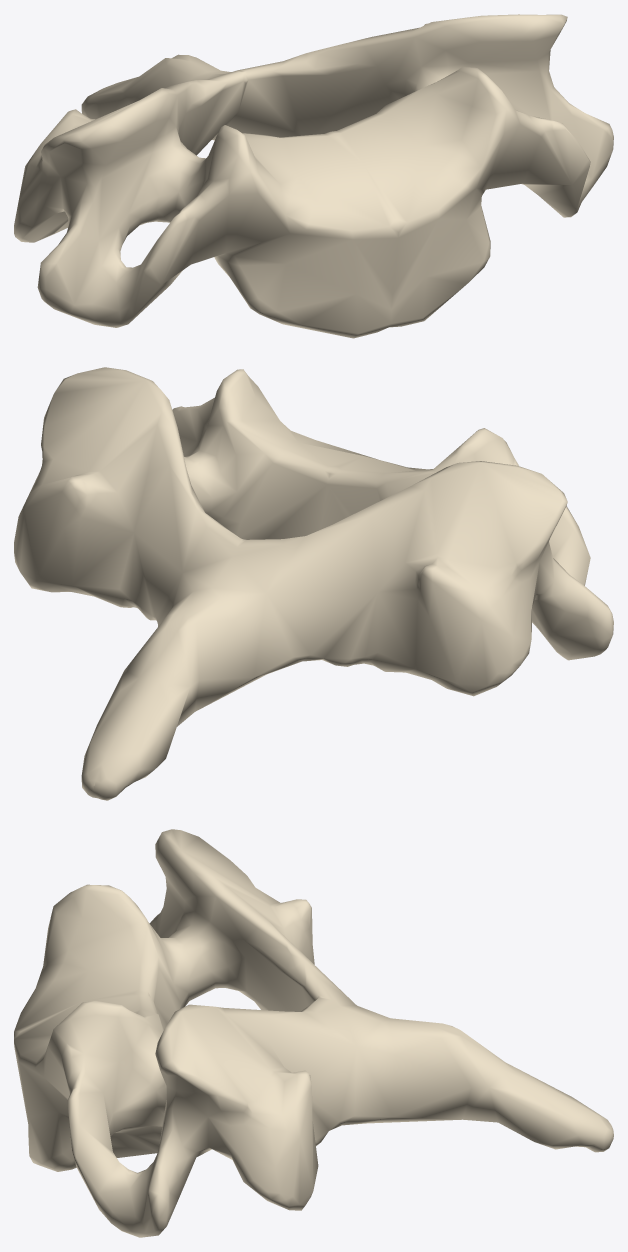
File: vertebra-c5.glb
The picture shows the model from 3 angles, top to bottom: view 1: azimuth 30°, elevation 25°; view 2: azimuth 150°, elevation 25°; view 3: azimuth 270°, elevation 25°; orthographic projection.
Parts seen in each view (by area): view 1: Vertebra C5; view 2: Vertebra C5; view 3: Vertebra C5.
Boxes of the visible parts, <box> form: Vertebra C5: <box>14,14,613,338</box>; Vertebra C5: <box>14,367,613,800</box>; Vertebra C5: <box>14,829,613,1237</box>.
Size of the model in its own units: 0.0614 by 0.0225 by 0.0564.
